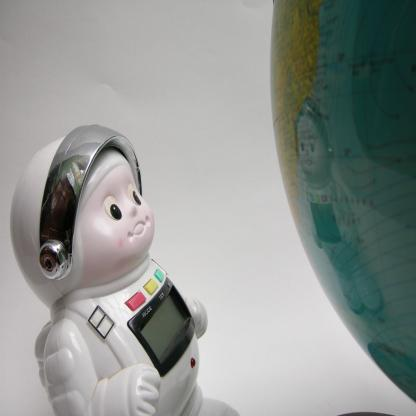Helmet: (9, 123, 142, 310)
